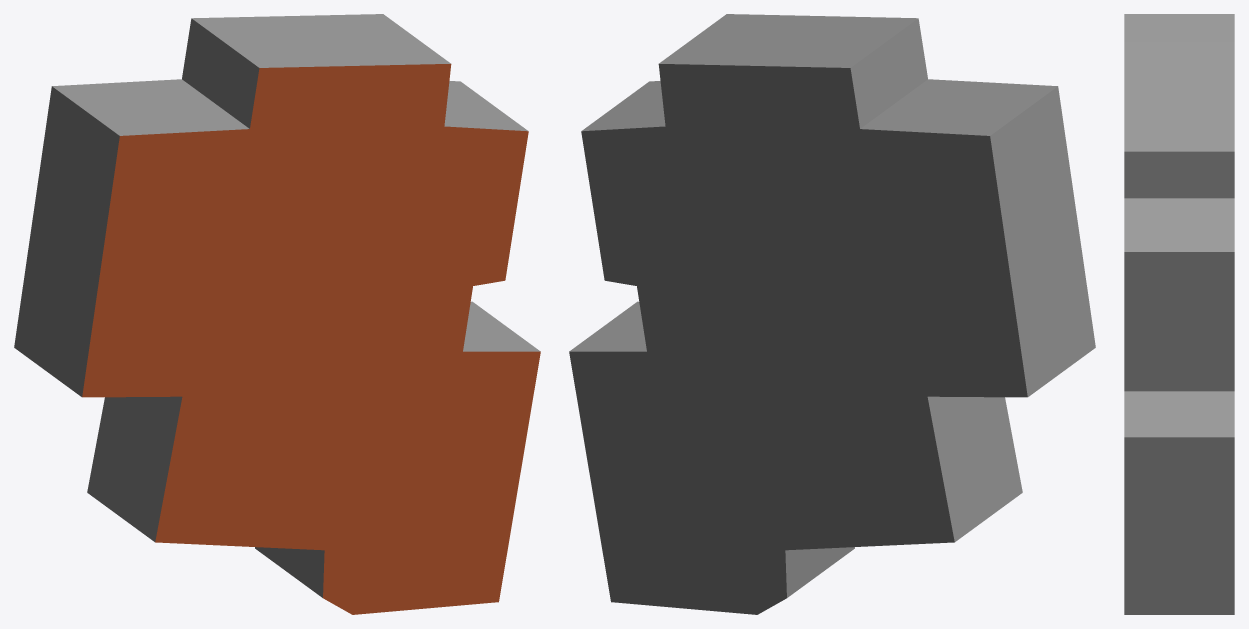
File: construction_1315_assumed_A_Casa_h6m.obj
The picture shows the model from 3 angles, left to right: view 1: azimuth 30°, elevation 25°; view 2: azimuth 150°, elevation 25°; view 3: azimuth 270°, elevation 25°; orthographic projection. The views are drawn at different scales.
Parts seen in each view (by area): view 1: construction_1315_assumed_A_Casa; view 2: construction_1315_assumed_A_Casa; view 3: construction_1315_assumed_A_Casa.
Part boxes in pixels (x1=…): construction_1315_assumed_A_Casa: x1=14, y1=14, x2=540, y2=614; construction_1315_assumed_A_Casa: x1=569, y1=14, x2=1095, y2=614; construction_1315_assumed_A_Casa: x1=1124, y1=14, x2=1234, y2=614.
Size of the model in its own units: 23.35 by 28.82 by 6.
